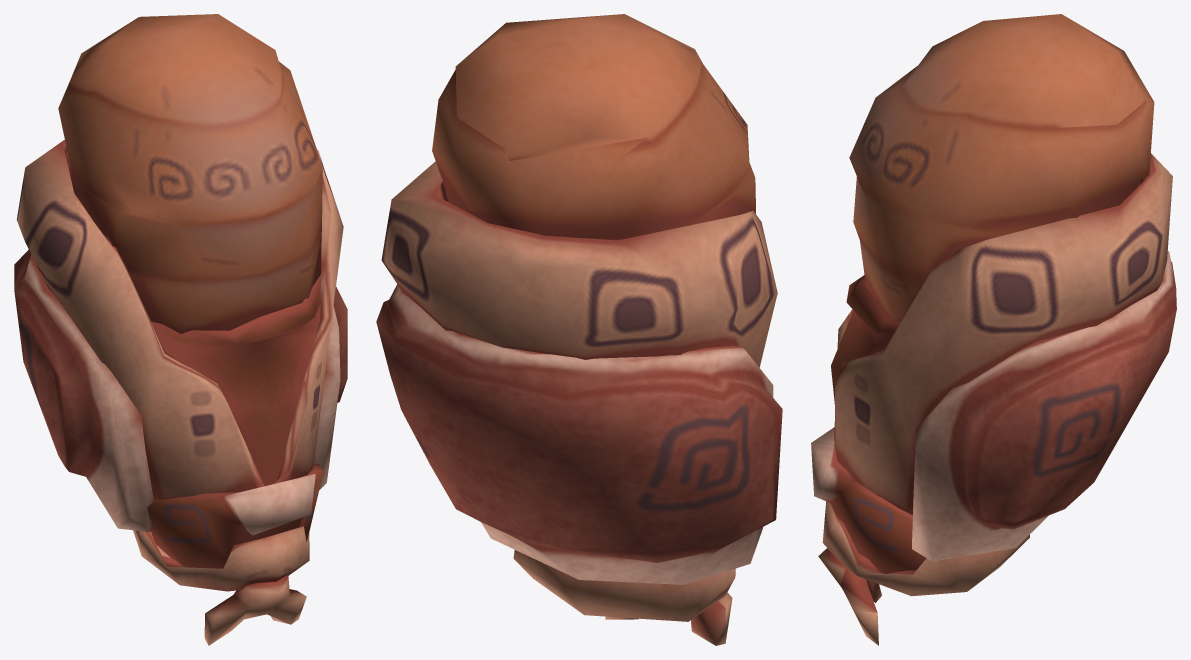
Rendered from cocoon muu.fbx.
The picture shows the model from 3 angles, left to right: view 1: azimuth 30°, elevation 25°; view 2: azimuth 150°, elevation 25°; view 3: azimuth 270°, elevation 25°; orthographic projection. The views are drawn at different scales.
Parts seen in each view (by area): view 1: muu cocoon; view 2: muu cocoon; view 3: muu cocoon.
Part boxes in pixels (bbox=[...]): muu cocoon: bbox=[14, 14, 347, 645]; muu cocoon: bbox=[376, 14, 782, 645]; muu cocoon: bbox=[811, 14, 1176, 645].
Size of the model in its own units: 384 by 699 by 392.
1 material, 1 textured.
